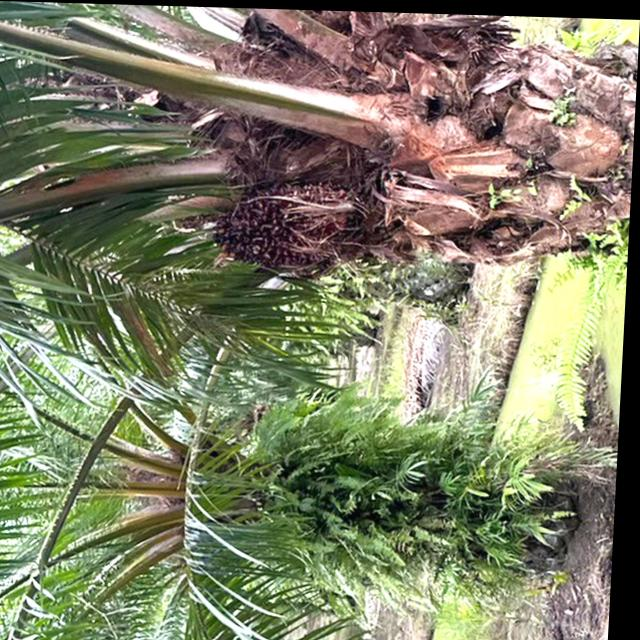ripe: (201, 181, 381, 292)
